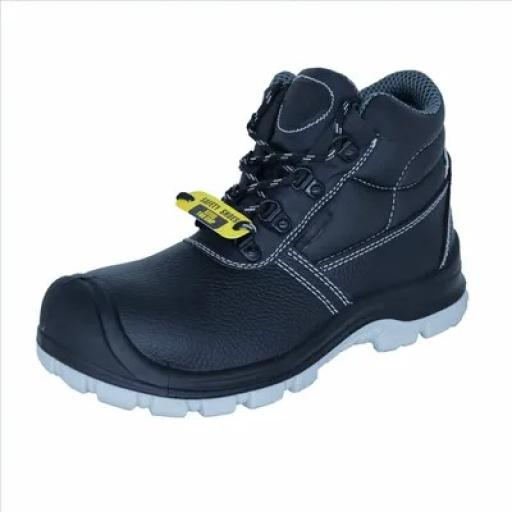safety_boots: (28, 68, 480, 425)
